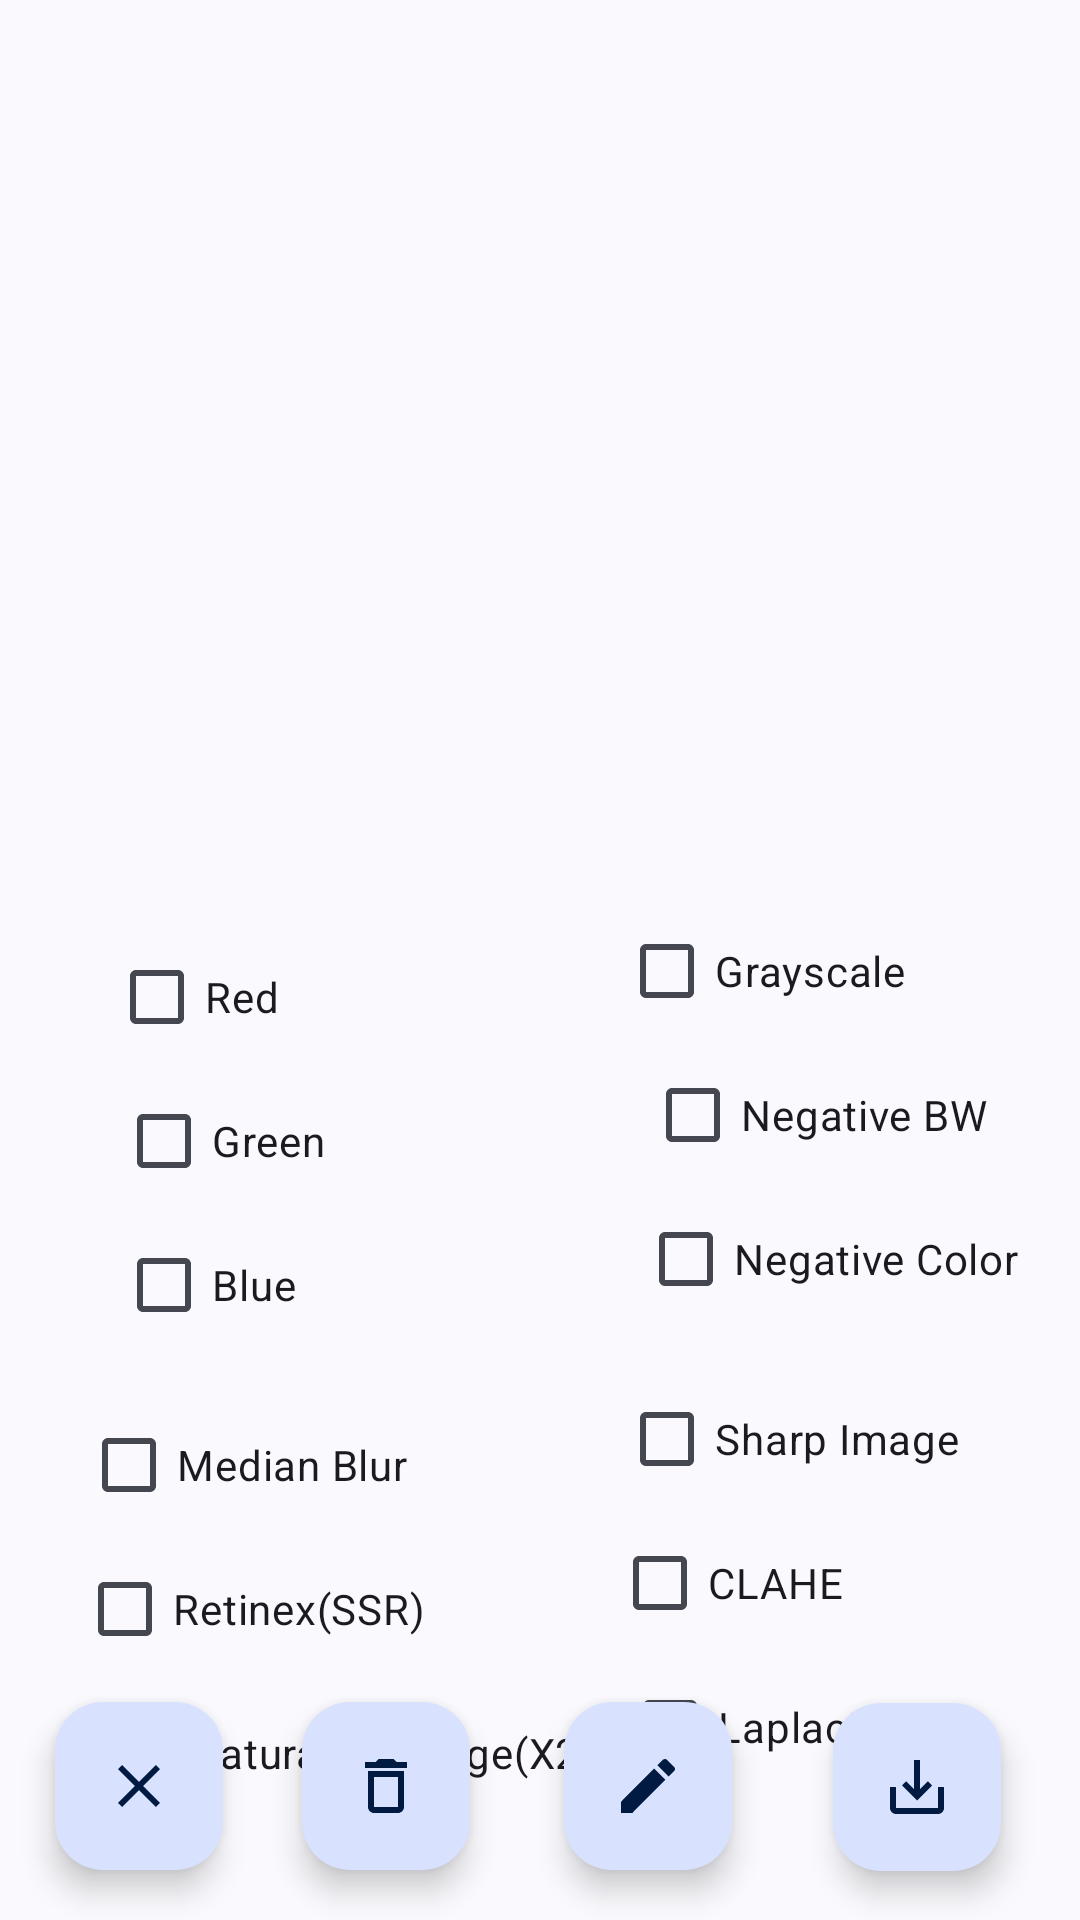

Locate icon controls on the screen. Image size 1080w x 1920h, boxes as [left=x1, top=y1, right=x2, bottom=y2].
close: [left=55, top=1702, right=223, bottom=1870]
delete: [left=302, top=1702, right=470, bottom=1870]
edit: [left=564, top=1702, right=732, bottom=1870]
save: [left=833, top=1703, right=1001, bottom=1871]
